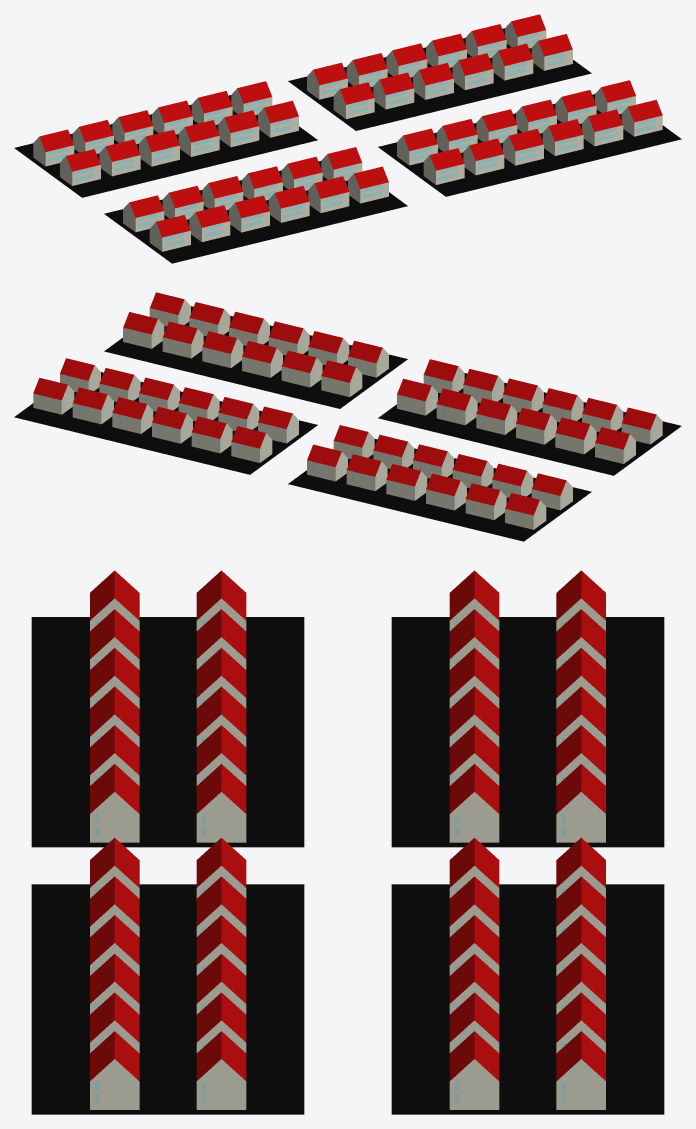
3 views of the same model, one above another, from view 1: azimuth 30°, elevation 25°; view 2: azimuth 150°, elevation 25°; view 3: azimuth 270°, elevation 25° (orthographic). The views are drawn at different scales.
Bounding box in the file's own units: 216 × 10.34 × 116.
